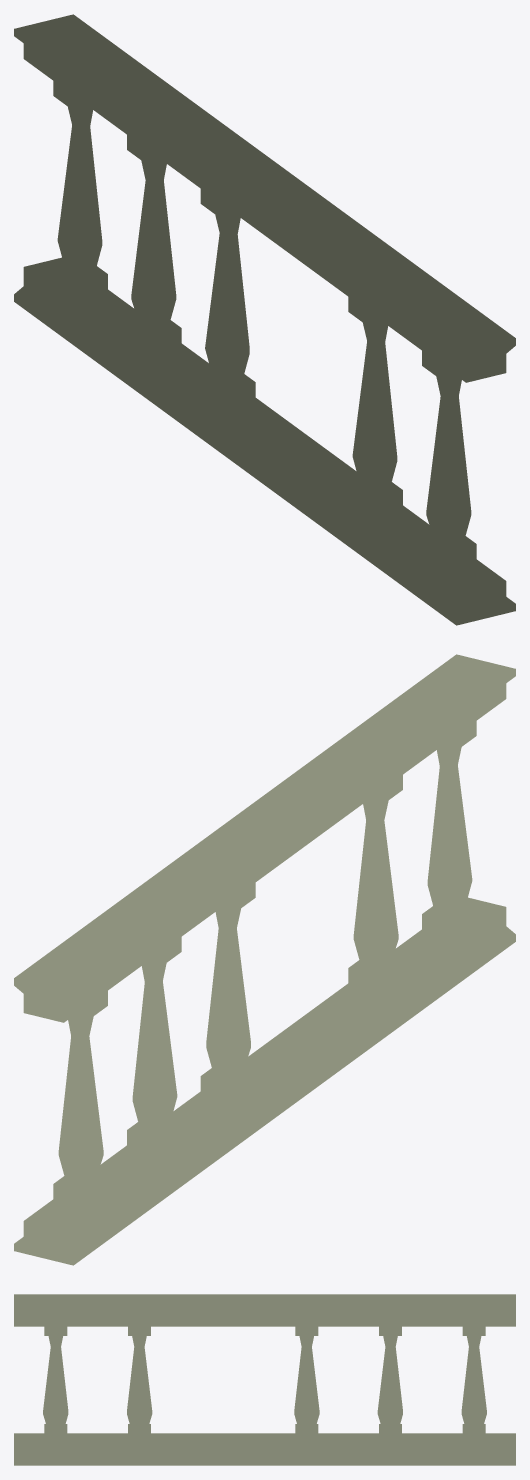
Rendered from railing_missing.dae.
The picture shows the model from 3 angles, top to bottom: view 1: azimuth 30°, elevation 25°; view 2: azimuth 150°, elevation 25°; view 3: azimuth 270°, elevation 25°; orthographic projection. The views are drawn at different scales.
Parts seen in each view (by area): view 1: cube2-0; view 2: cube2-0; view 3: cube2-0.
Boxes of the visible parts, bbox=[...] form: cube2-0: bbox=[14, 14, 515, 625]; cube2-0: bbox=[14, 654, 515, 1265]; cube2-0: bbox=[14, 1294, 515, 1465].
Size of the model in its own units: 0.1466 by 0.6424 by 1.89.
